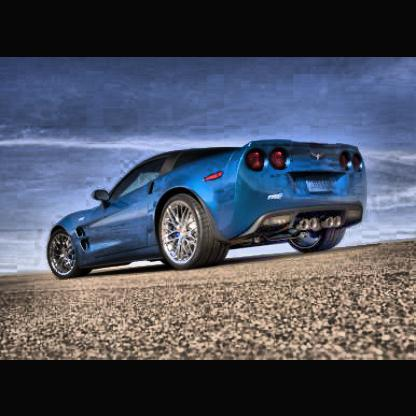Chevrolet Corvette ZR1 2012: (45, 146, 364, 269)
